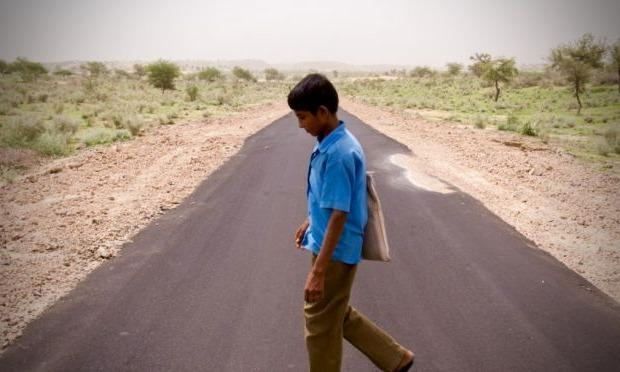Human: (287, 74, 414, 371)
